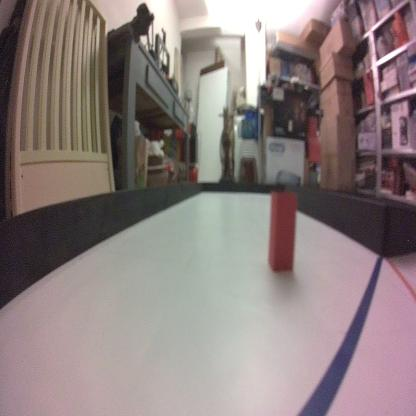red: (267, 190, 298, 277)
